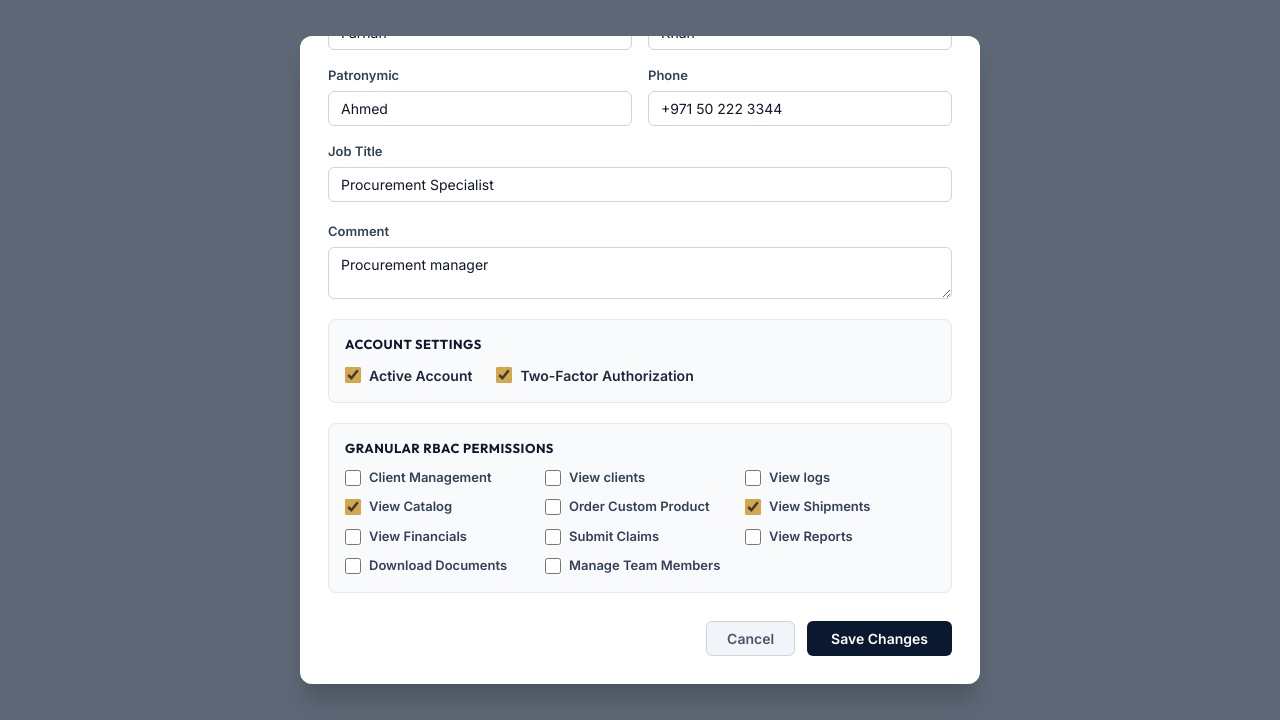
it: Members Components & Page (FEAT-1.4) › EditMemberModal Component › displays error banner when updateMember returns failure with custom error
(page scrolled)
Click the button "Save Changes".
click(880, 638)  # box [807, 621, 952, 656]
(page scrolled)
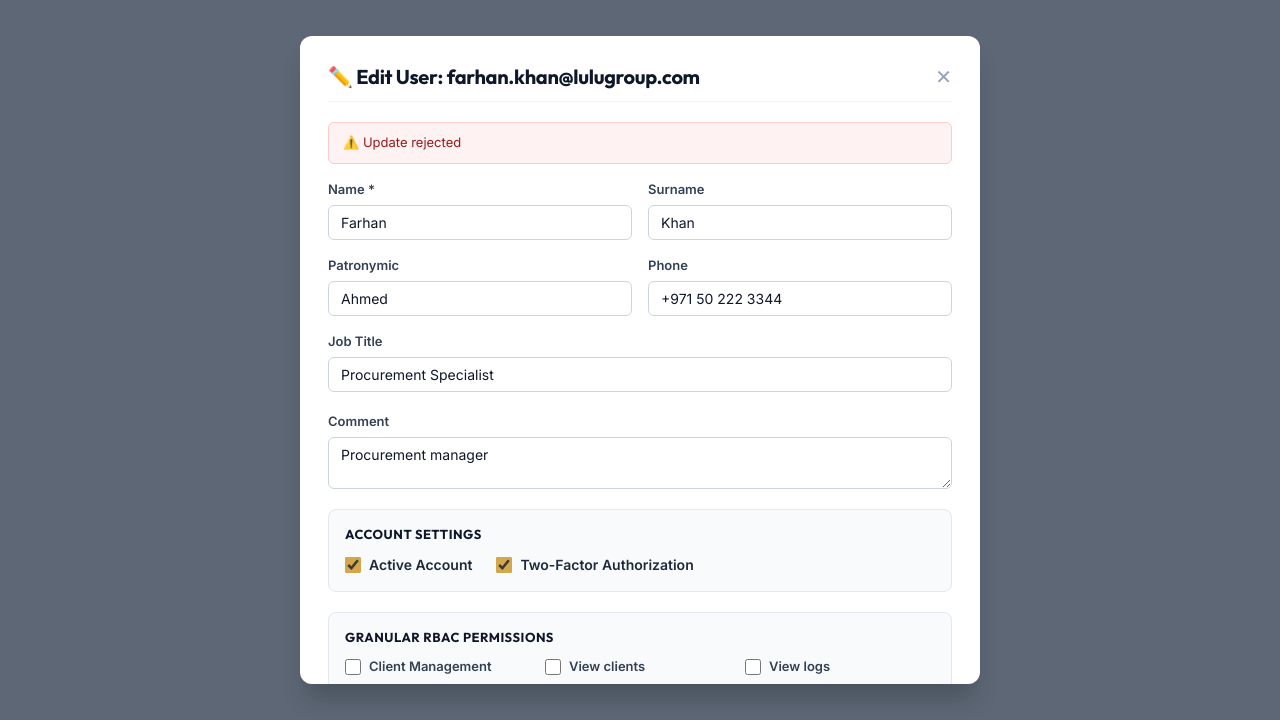
Expected: the text "⚠️ Update rejected" is shown, [328, 122, 952, 164]
